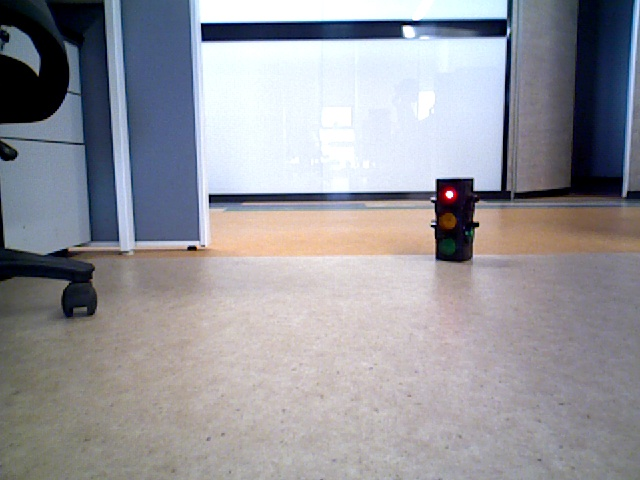red: (436, 181, 469, 258)
